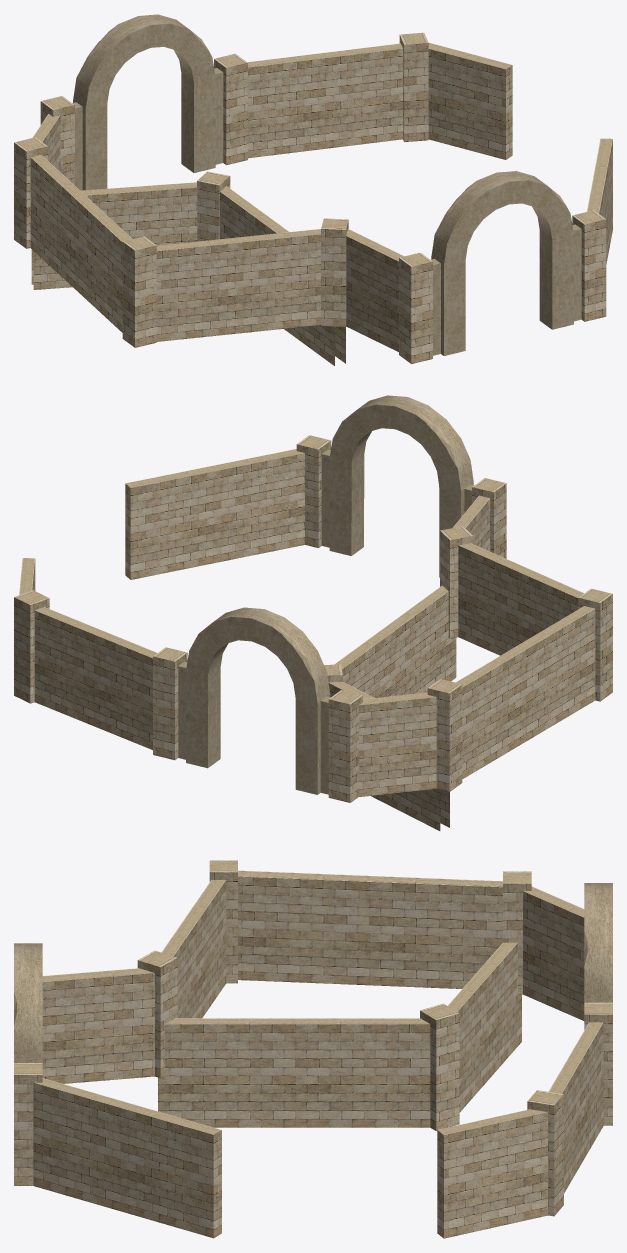
File: poi_nboo_corral_32x32_s02_l0.fbx
The picture shows the model from 3 angles, top to bottom: view 1: azimuth 30°, elevation 25°; view 2: azimuth 150°, elevation 25°; view 3: azimuth 270°, elevation 25°; orthographic projection. The views are drawn at different scales.
Visible parts, largest first — view 1: mesh_node; view 2: mesh_node; view 3: mesh_node.
Part boxes in pixels (box(x1,y1,x2,y2)): mesh_node: box(14, 14, 612, 365); mesh_node: box(14, 395, 612, 830); mesh_node: box(14, 860, 612, 1238).
Bounding box in the file's own units: 22.18 × 9 × 21.
